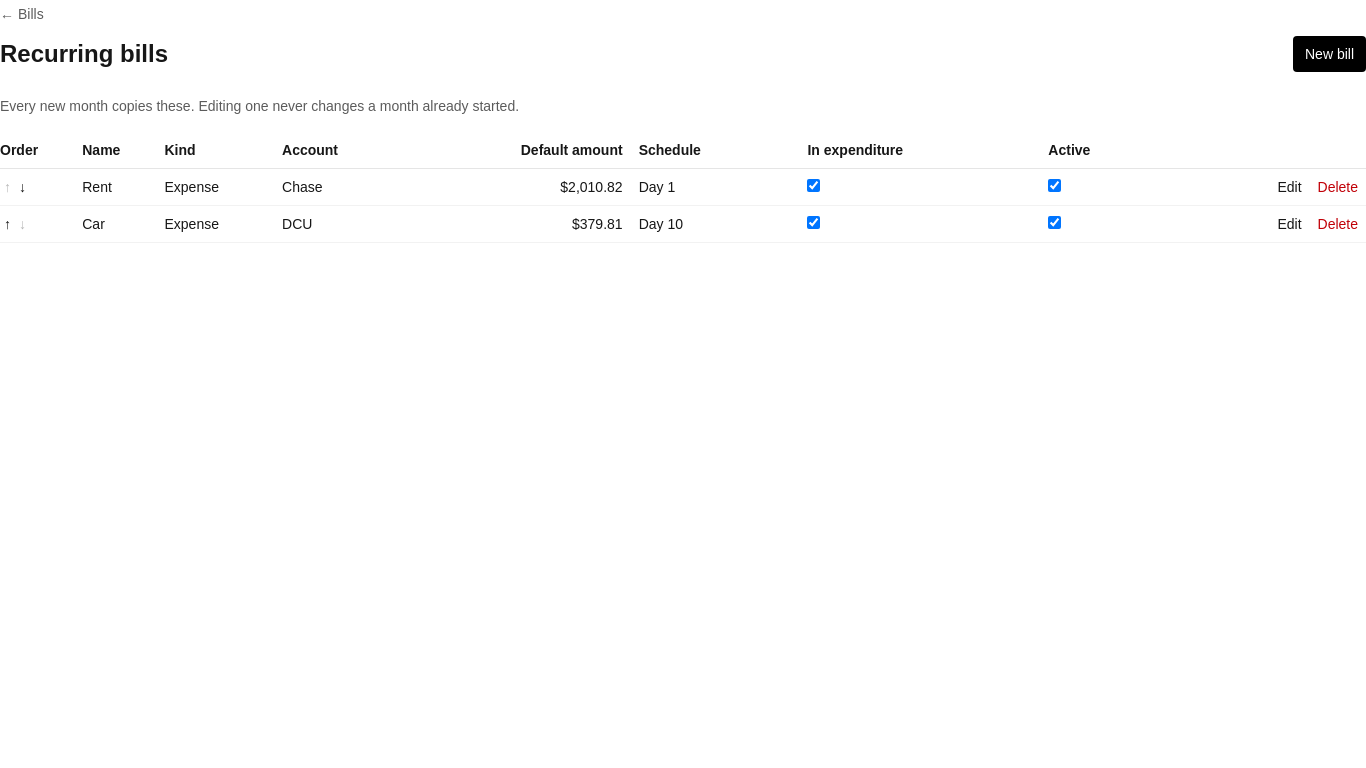
Test: RecurringItemsPage › shows the 409 message when a bill used by a month is deleted
What coordinates should you click on to do the following:
click the button with aria-label "Delete Rent"
I would click on:
 (1338, 187)
Its box is [1310,177,1365,197].
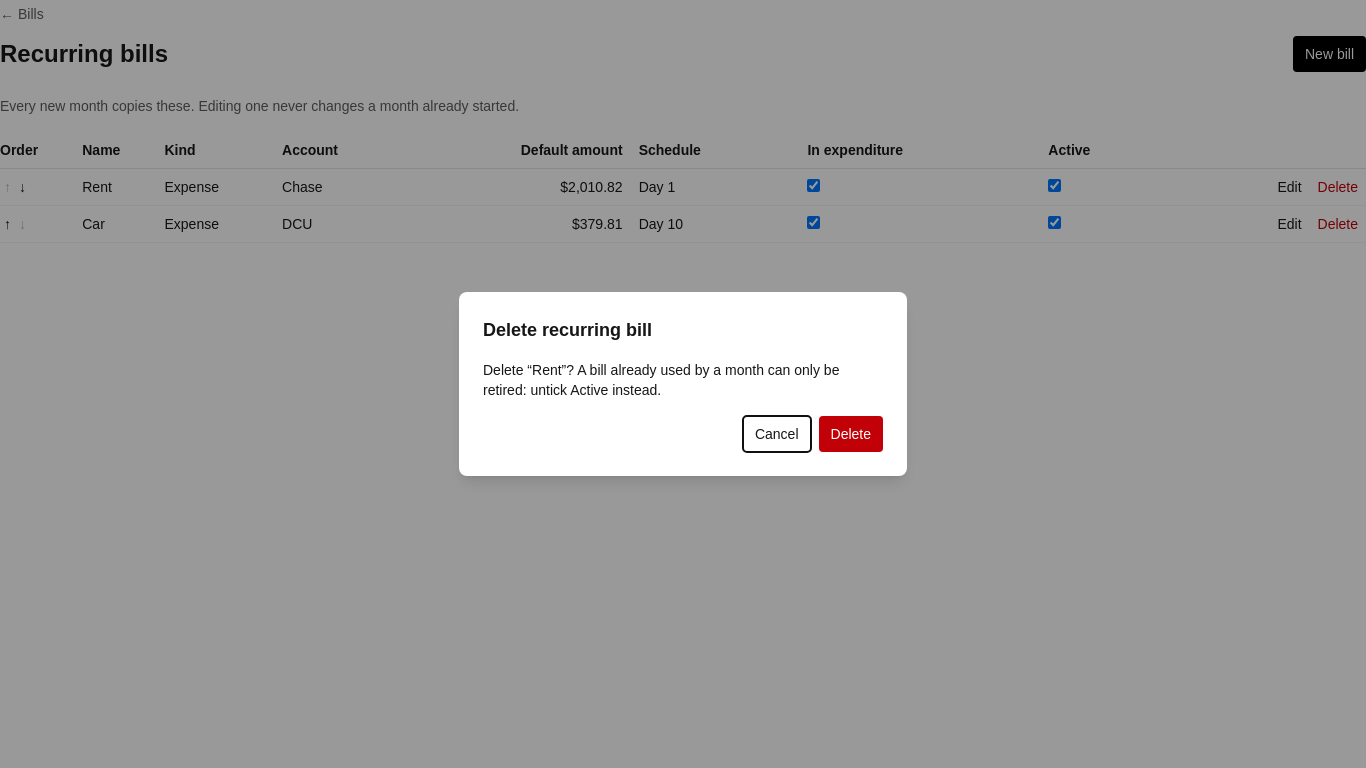
What coordinates should you click on to do the following:
click the button "Delete"
I would click on:
 (851, 434)
Its box is [818,416,883,452].
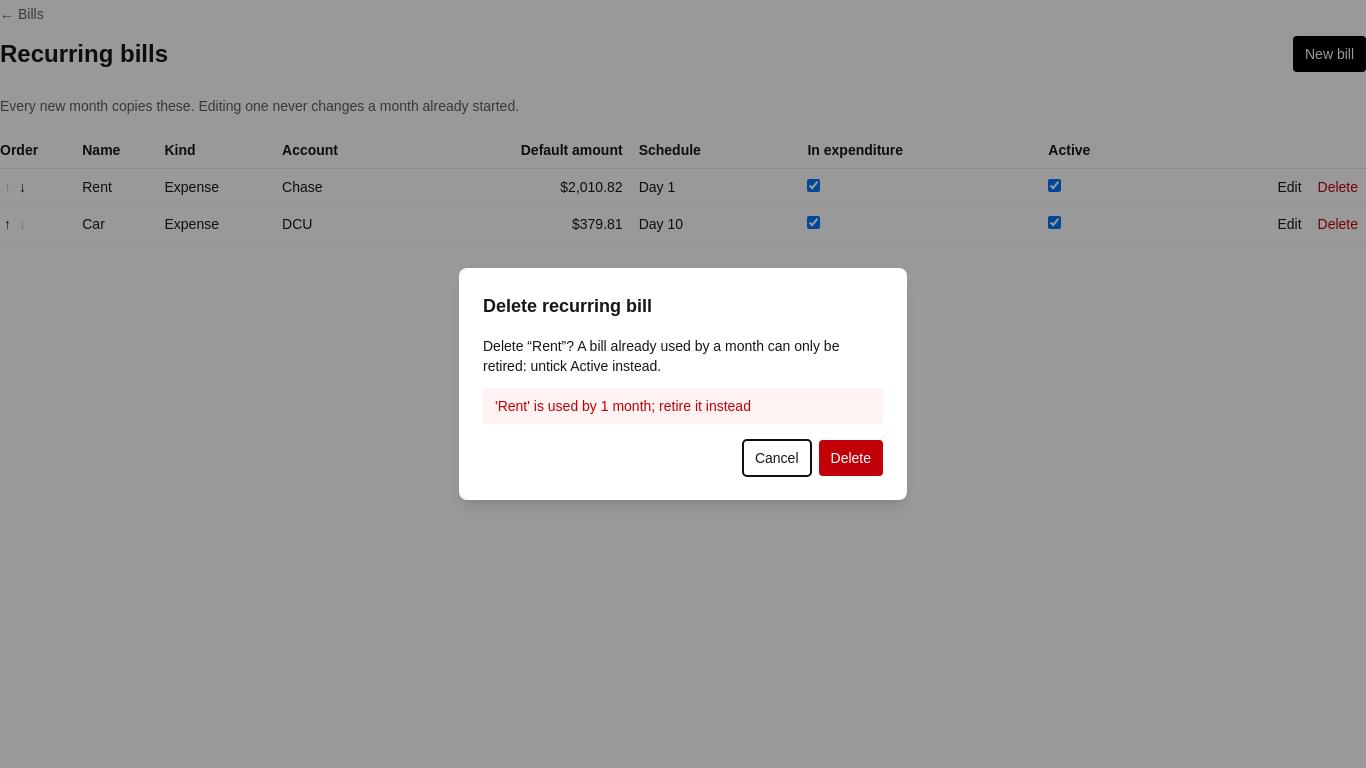
Expected: the text "'Rent' is used by 1 month; retire it instead" is shown, [483,388,883,424]
